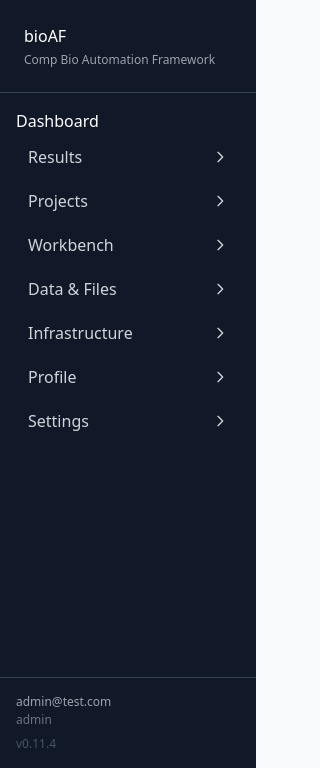
it: Sidebar component gating › hides Cellxgene when cellxgene component is not enabled
Click the button "Results".
click(128, 157)  # box [16, 137, 240, 177]
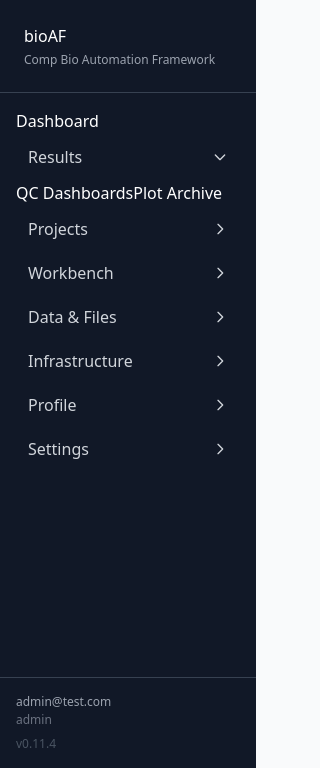
Now the link "QC Dashboards" is shown, box [16, 182, 133, 204]
